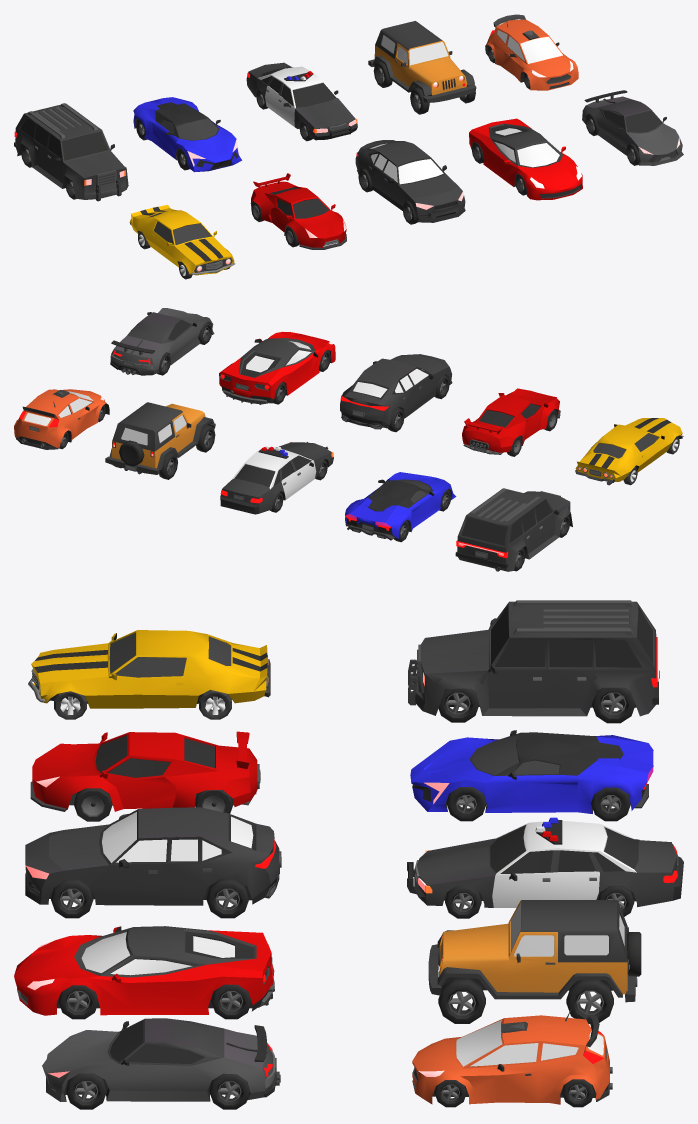
The model's file is traffic-cars.glb.
The picture shows the model from 3 angles, top to bottom: view 1: azimuth 30°, elevation 25°; view 2: azimuth 150°, elevation 25°; view 3: azimuth 270°, elevation 25°; orthographic projection. The views are drawn at different scales.
Parts seen in each view (by area): view 1: Cube034_Texture_0, Cube074_Texture_0, Cube072_Texture_0, Cube070_Texture_0, Cube029_Texture_0, Cube082_Texture_0, Cube055_Texture_0, Cube_Texture_0, Cube015_Texture_0, Cube053_Texture_0, Cube034_Glass_0, Cube072_Glass_0 (+10 smaller); view 2: Cube034_Texture_0, Cube074_Texture_0, Cube072_Texture_0, Cube070_Texture_0, Cube082_Texture_0, Cube_Texture_0, Cube029_Texture_0, Cube015_Texture_0, Cube055_Texture_0, Cube053_Texture_0, Cube034_Glass_0, Cube082_Glass_0 (+6 smaller); view 3: Cube034_Texture_0, Cube074_Texture_0, Cube072_Texture_0, Cube029_Texture_0, Cube070_Texture_0, Cube082_Texture_0, Cube_Texture_0, Cube015_Texture_0, Cube055_Texture_0, Cube053_Texture_0, Cube034_Glass_0, Cube072_Glass_0 (+25 smaller).
Boxes of the visible parts, box(x1,y1,x2,y2) form: Cube034_Texture_0: box(15, 103, 128, 199); Cube074_Texture_0: box(355, 140, 465, 222); Cube072_Texture_0: box(469, 118, 582, 200); Cube070_Texture_0: box(133, 97, 241, 172); Cube029_Texture_0: box(582, 96, 683, 165); Cube082_Texture_0: box(246, 62, 357, 140); Cube055_Texture_0: box(374, 21, 467, 96); Cube_Texture_0: box(130, 204, 234, 275); Cube015_Texture_0: box(250, 181, 346, 247); Cube053_Texture_0: box(485, 19, 578, 90); Cube034_Glass_0: box(20, 117, 108, 160); Cube072_Glass_0: box(490, 128, 563, 167); Cube034_Texture_0: box(457, 488, 572, 571); Cube074_Texture_0: box(340, 354, 452, 428); Cube072_Texture_0: box(219, 331, 335, 403); Cube070_Texture_0: box(345, 472, 456, 538); Cube082_Texture_0: box(220, 442, 333, 514); Cube_Texture_0: box(575, 418, 682, 481); Cube029_Texture_0: box(110, 308, 214, 374); Cube015_Texture_0: box(462, 388, 559, 452); Cube055_Texture_0: box(111, 402, 205, 468); Cube053_Texture_0: box(14, 389, 109, 447); Cube034_Glass_0: box(461, 500, 551, 545); Cube082_Glass_0: box(234, 455, 311, 487); Cube034_Texture_0: box(414, 601, 656, 716); Cube074_Texture_0: box(25, 807, 279, 905); Cube072_Texture_0: box(14, 926, 274, 1015); Cube029_Texture_0: box(42, 1018, 273, 1101); Cube070_Texture_0: box(410, 732, 653, 813); Cube082_Texture_0: box(414, 820, 683, 907); Cube_Texture_0: box(31, 630, 267, 708); Cube015_Texture_0: box(32, 732, 257, 811); Cube055_Texture_0: box(439, 900, 627, 994); Cube053_Texture_0: box(412, 1015, 609, 1104); Cube034_Glass_0: box(491, 607, 652, 667); Cube072_Glass_0: box(74, 927, 234, 977).
Size of the model in its own units: 20.66 by 1.95 by 13.44.
Materials: 3 (3 with a texture image).
